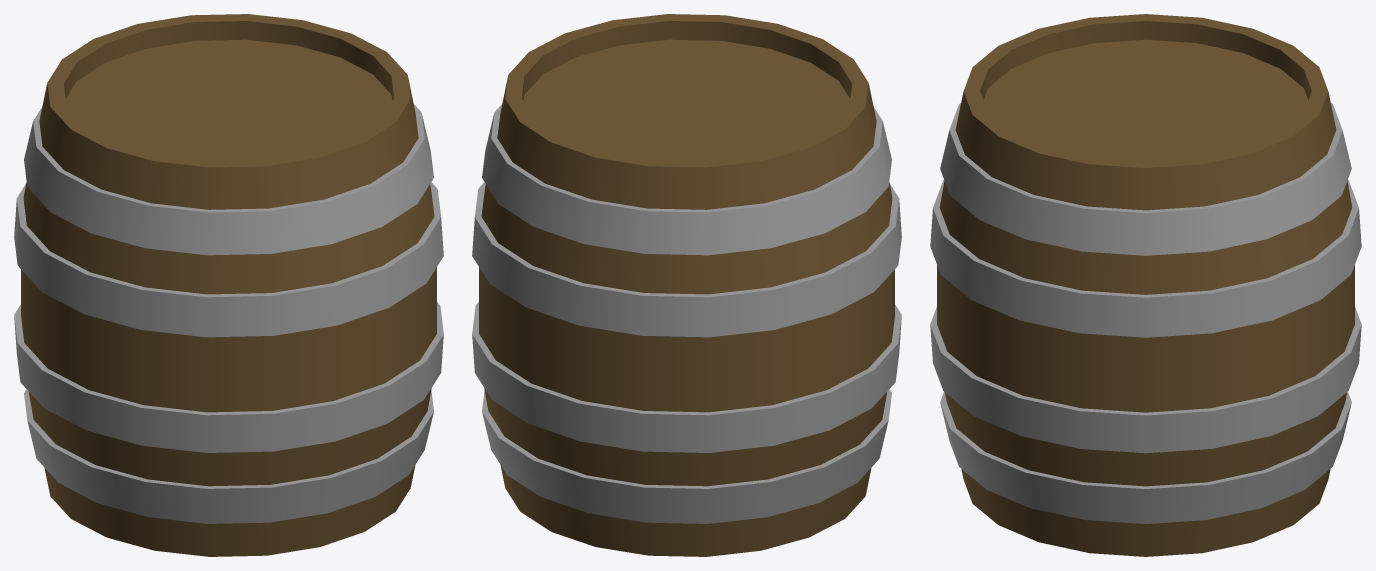
The model's file is Barrel.fbx.
3 renders of one model, left to right at view 1: azimuth 30°, elevation 25°; view 2: azimuth 150°, elevation 25°; view 3: azimuth 270°, elevation 25°, orthographic.
Visible parts, largest first — view 1: polySurface484; view 2: polySurface484; view 3: polySurface484.
Boxes of the visible parts, x1=… form: polySurface484: x1=14, y1=14, x2=443, y2=556; polySurface484: x1=472, y1=14, x2=901, y2=556; polySurface484: x1=930, y1=14, x2=1361, y2=556.
Size of the model in its own units: 121 by 121 by 121.
